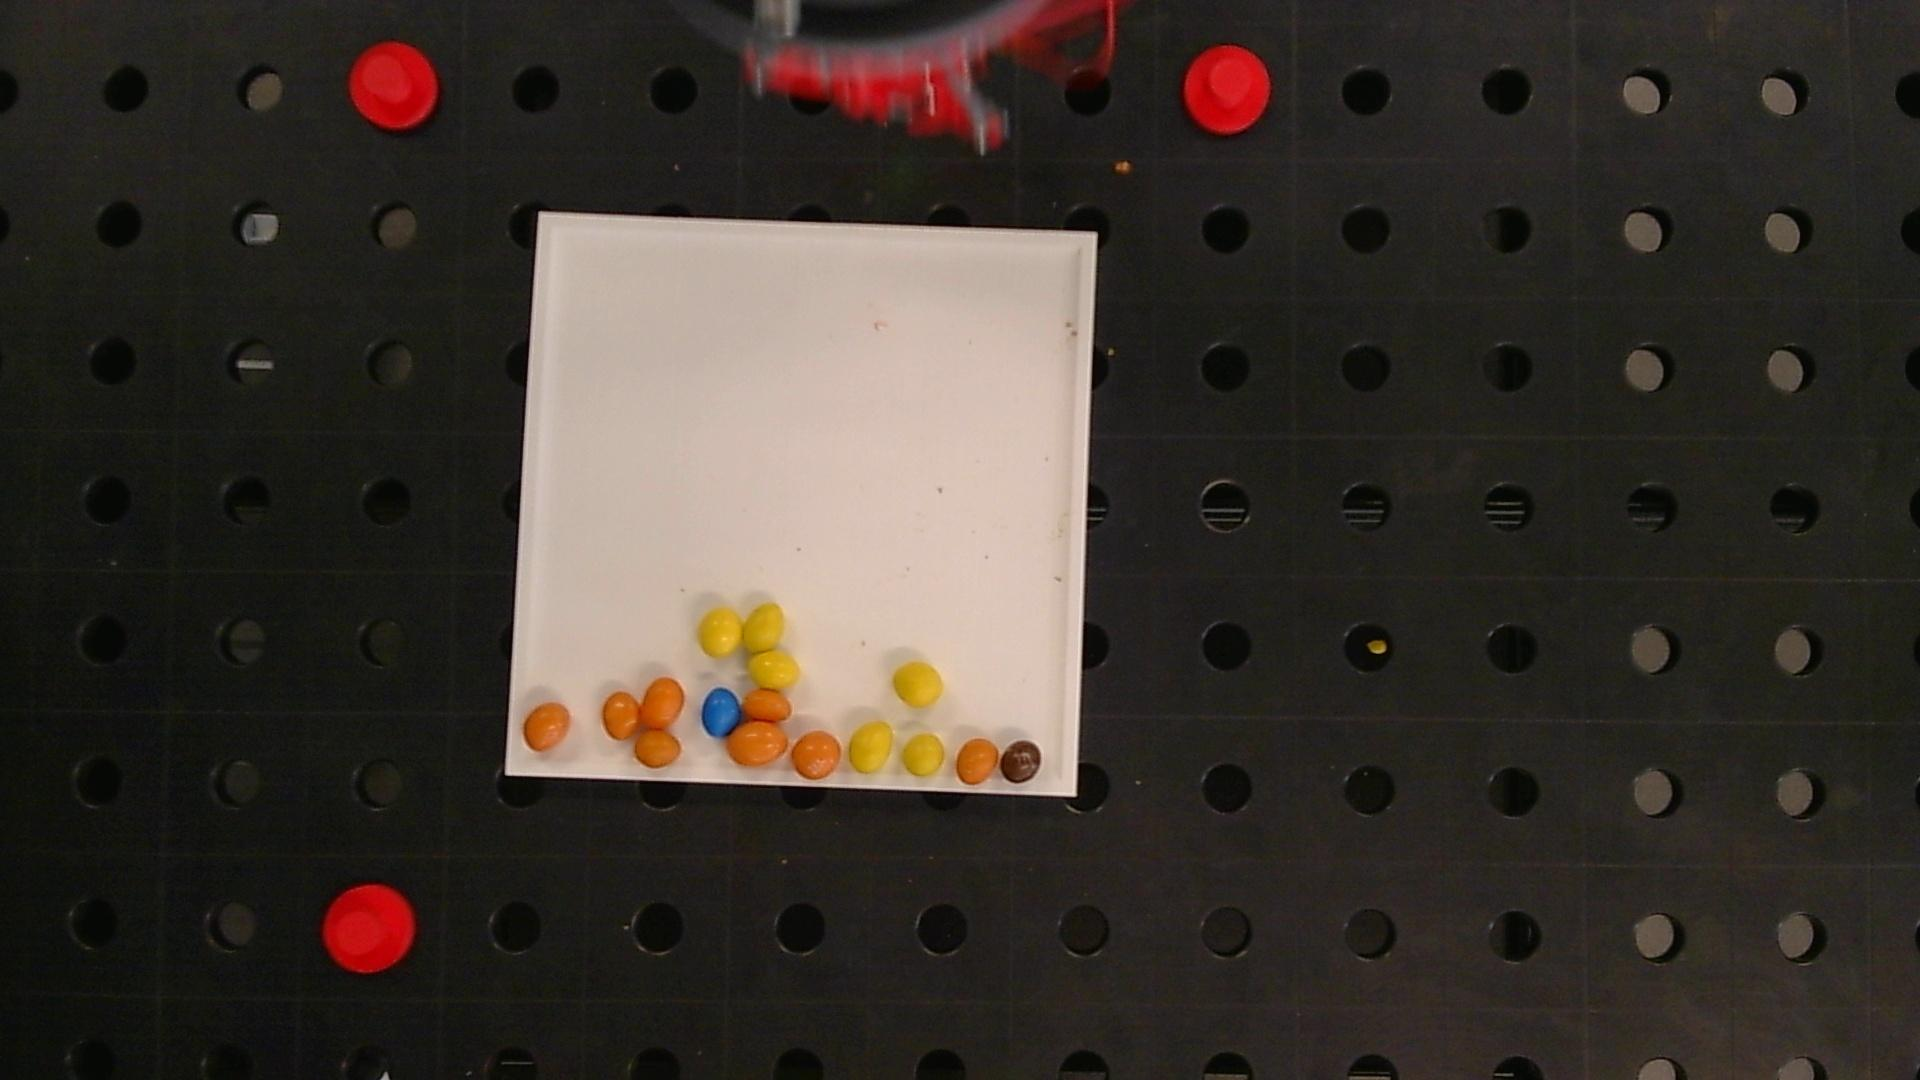blue: (702, 687, 741, 736)
brown: (1000, 740, 1042, 783)
orange: (727, 721, 789, 766), (791, 731, 841, 779), (522, 703, 571, 749), (641, 676, 683, 729), (956, 737, 1000, 783), (603, 691, 640, 738), (634, 731, 680, 767), (741, 690, 791, 721)
yellow: (849, 720, 894, 773), (893, 662, 944, 707), (699, 608, 741, 655), (744, 603, 785, 651), (750, 651, 799, 688), (903, 733, 945, 775)
